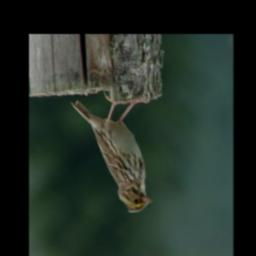Sparrow: (70, 89, 154, 214)
